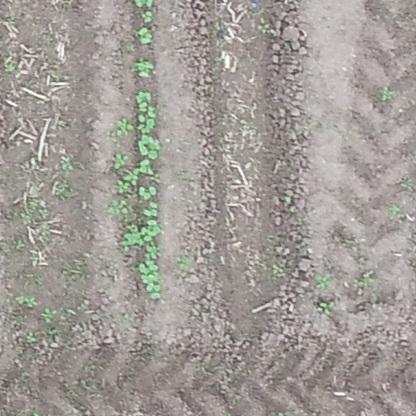vc: (138, 258, 170, 300), (133, 86, 157, 115), (137, 133, 162, 160), (138, 217, 162, 241), (132, 56, 156, 78), (134, 26, 153, 47), (136, 114, 156, 133), (135, 159, 154, 176), (138, 183, 157, 199), (141, 201, 158, 216), (139, 10, 155, 24)
